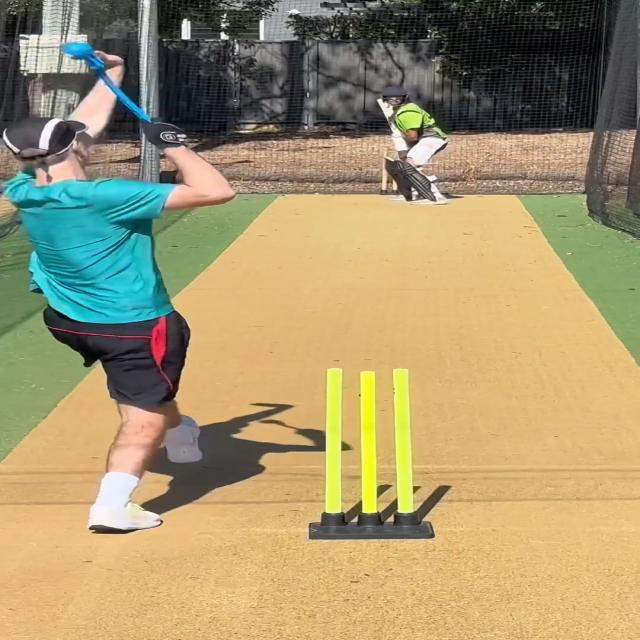stump: (304, 367, 437, 541)
